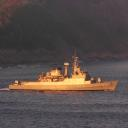Fragata: (9, 50, 121, 95)
